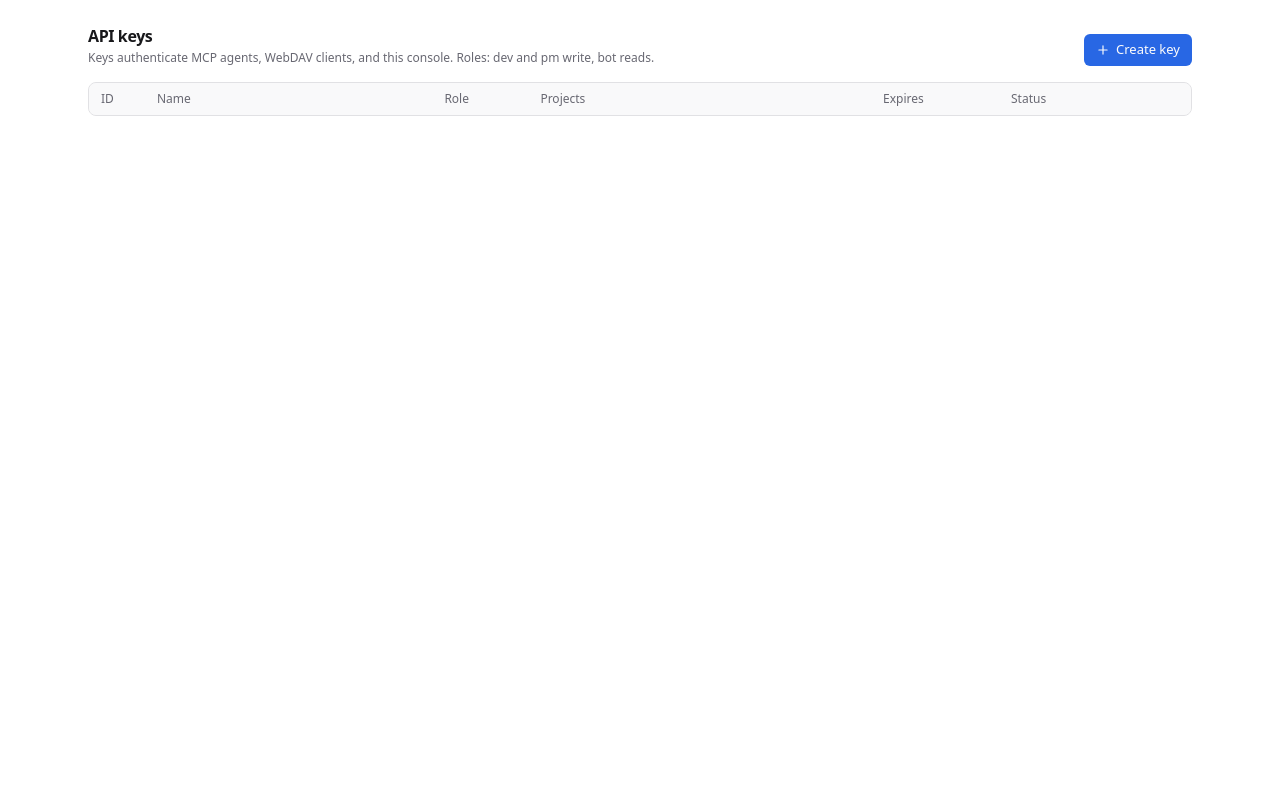
Test: Keys › shows a new secret once and not after the dialog is reopened
Click the button "Create key" at (1138, 50), box [1084,34,1192,66]
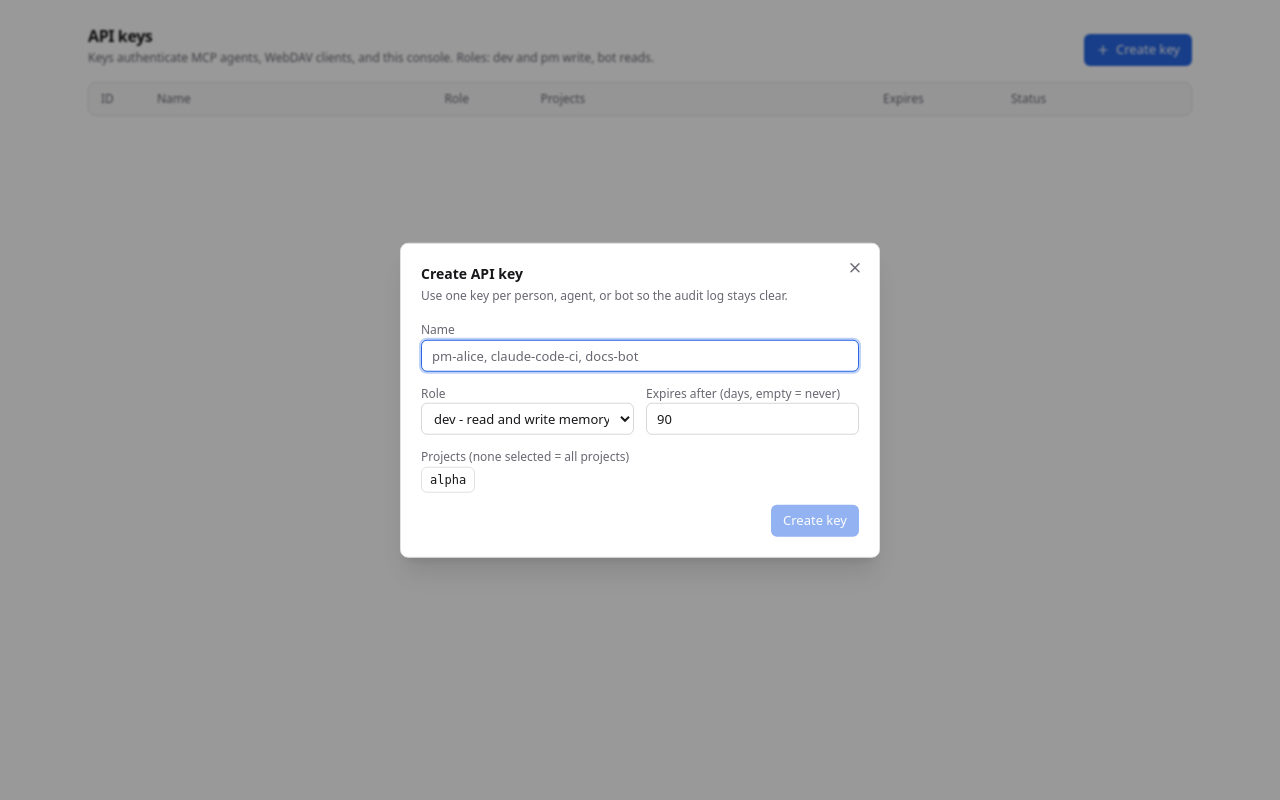
Type "ci-bot" into the field labelled "Name" at (640, 355), box [421,339,859,371]
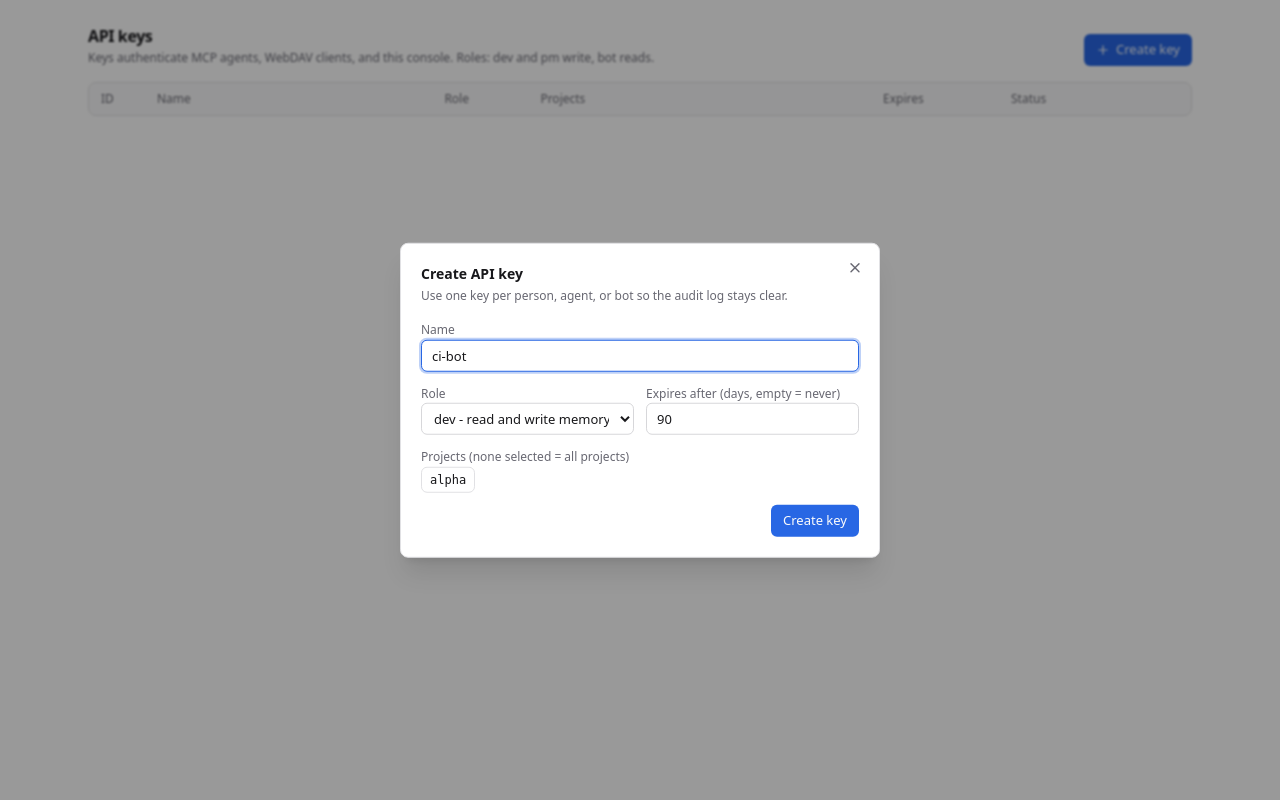
Click the button "Create key" at (815, 520), box [771,504,859,536]
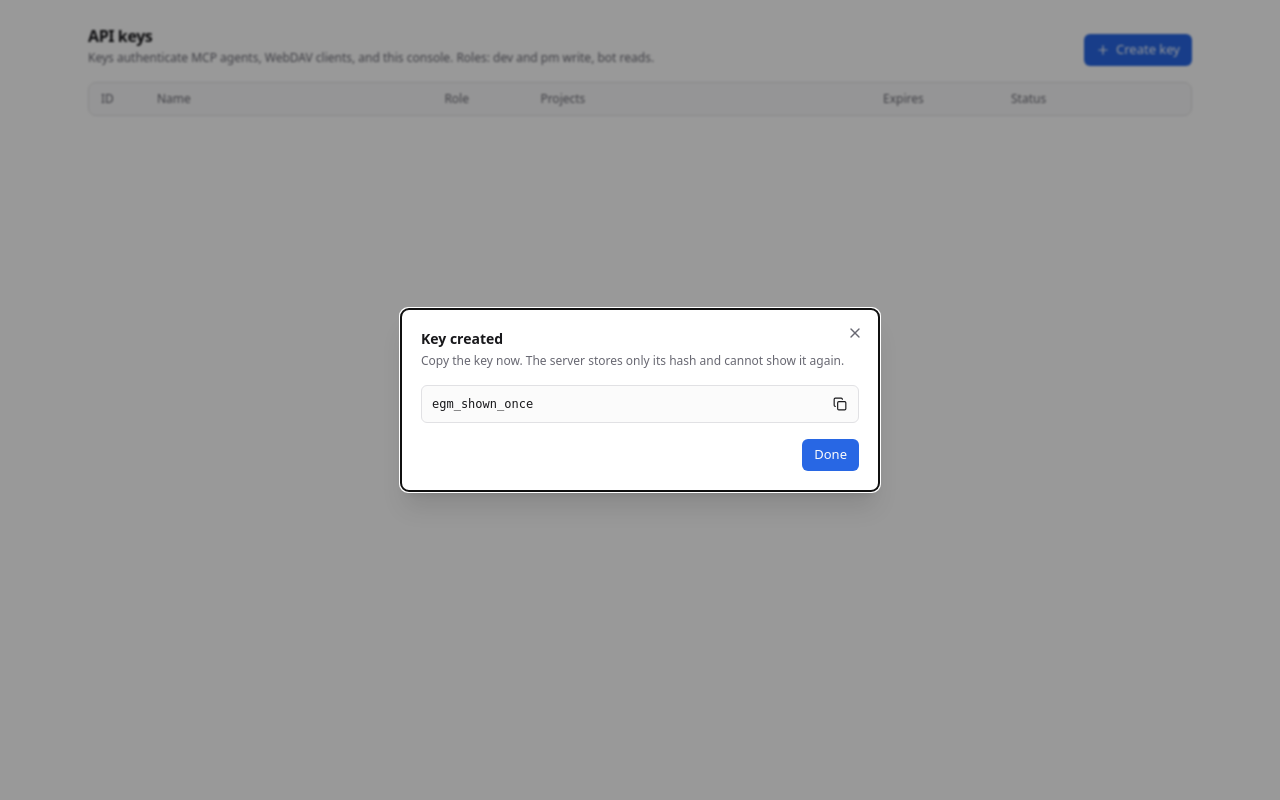
Check: the text "egm_shown_once" is shown, box [432,397,533,411]
Click the button "Done" at (831, 455), box [802,439,859,471]
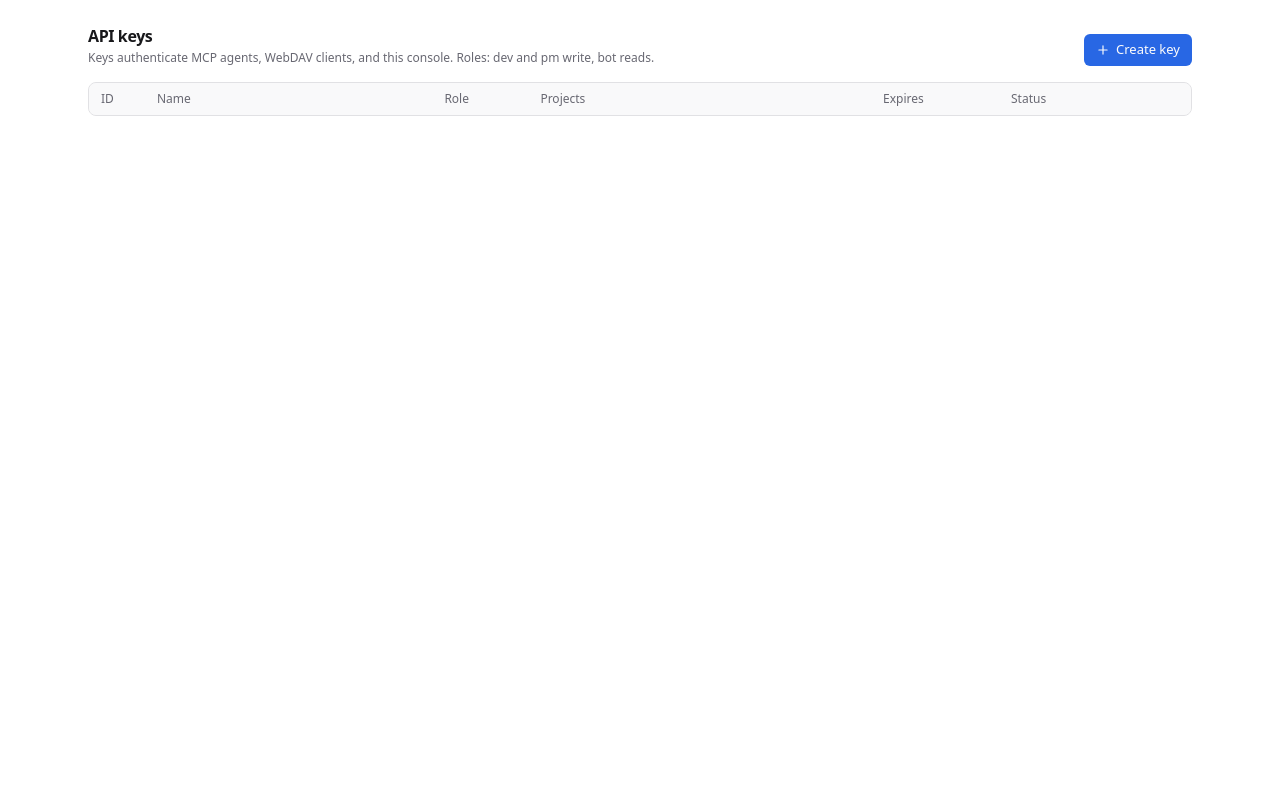
Click the button "Create key" at (1138, 50), box [1084,34,1192,66]
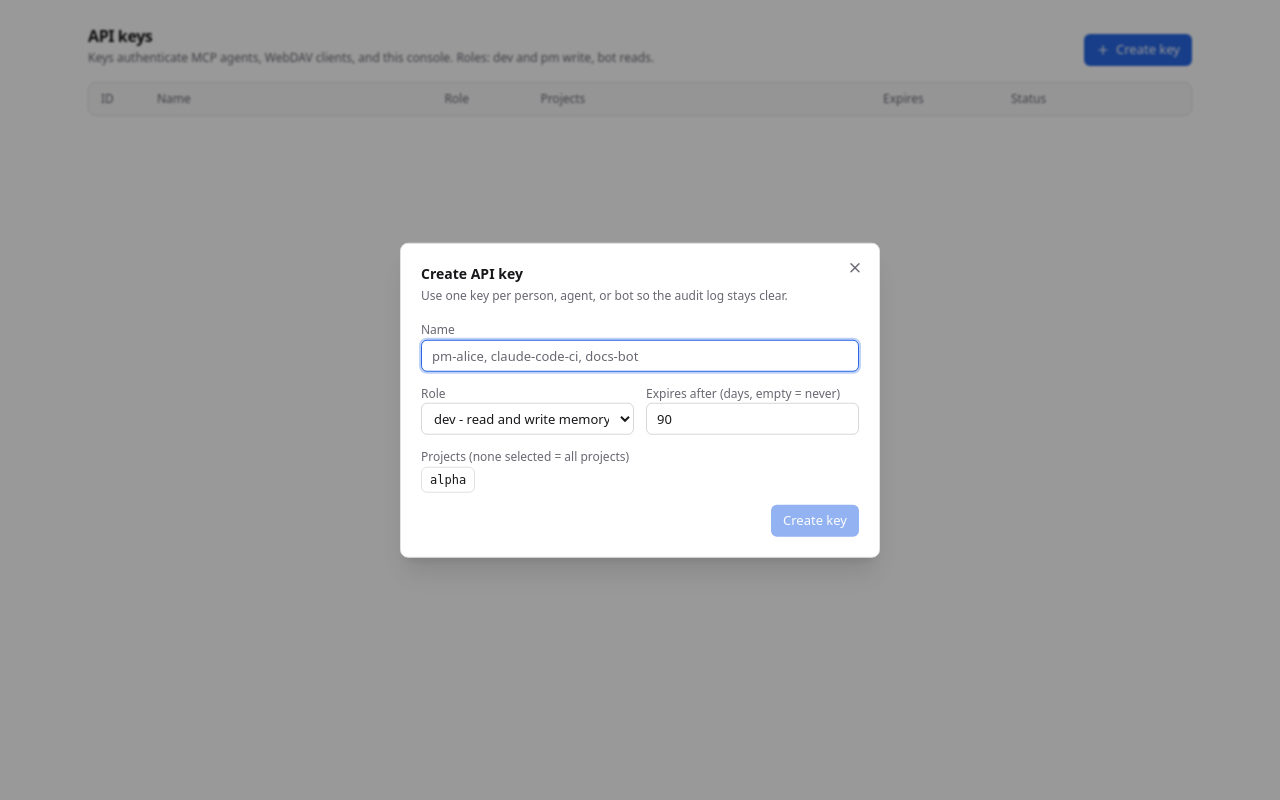
Check: the text "egm_shown_once" is not shown
Check: the field labelled "Name" is empty, box [421,339,859,371]
